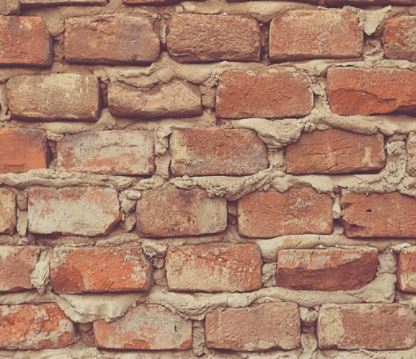brick: (165, 243, 266, 292), (318, 302, 416, 352), (135, 186, 229, 237), (51, 247, 148, 296), (271, 10, 363, 61), (219, 69, 310, 120), (19, 189, 124, 233), (63, 15, 157, 63), (328, 65, 416, 116), (9, 72, 101, 120), (172, 128, 268, 173), (57, 129, 157, 172), (237, 189, 333, 233), (282, 136, 385, 177), (170, 15, 265, 59), (204, 310, 302, 352), (278, 247, 378, 287), (343, 190, 416, 235), (1, 304, 74, 348), (1, 17, 51, 67), (2, 130, 47, 173), (1, 245, 36, 290)
